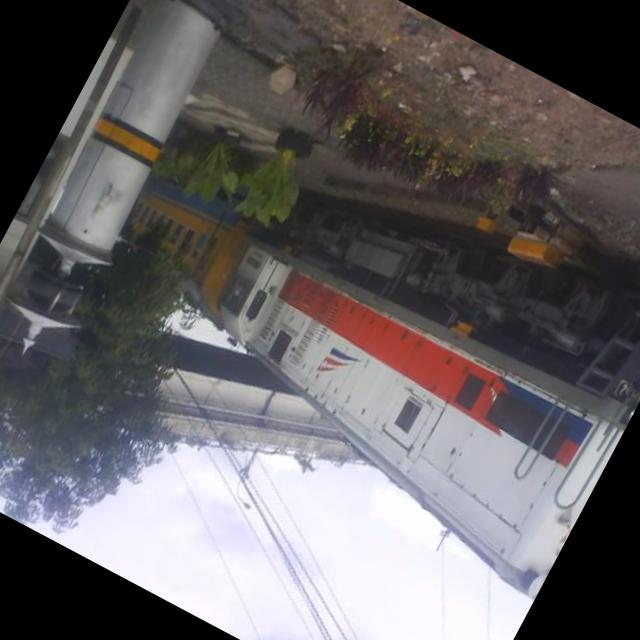pottedplant: (222, 115, 326, 236), (176, 123, 260, 221), (165, 123, 216, 184)
train: (58, 42, 640, 599)
